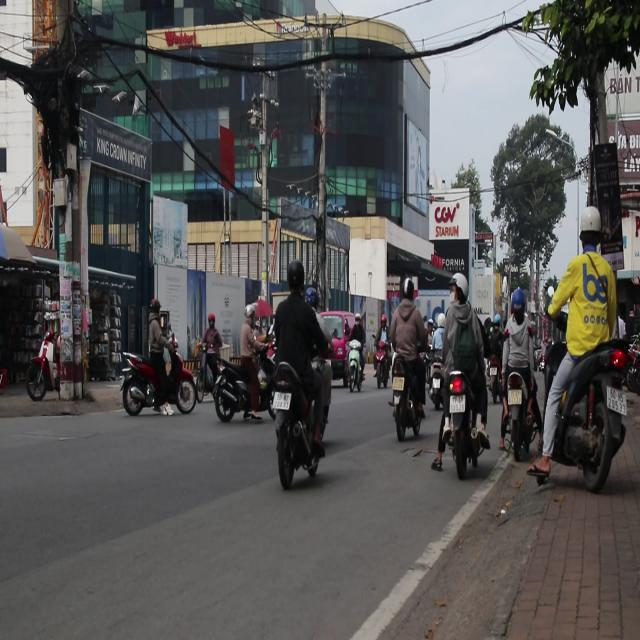motorbike: (538, 321, 622, 492), (270, 362, 326, 492), (121, 342, 197, 418), (443, 369, 479, 487), (496, 371, 540, 455), (207, 352, 254, 422), (25, 330, 60, 401), (373, 333, 390, 395), (348, 334, 364, 398), (430, 358, 445, 412)
